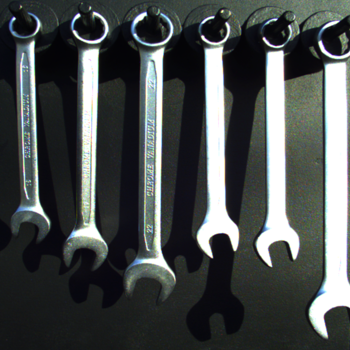bottom: (121, 255, 178, 305), (303, 282, 350, 342), (250, 221, 301, 271), (60, 226, 109, 273), (192, 214, 241, 261), (8, 203, 52, 245)
top: (129, 9, 176, 51), (314, 18, 350, 63), (69, 9, 110, 46), (256, 16, 294, 50), (7, 10, 44, 43), (196, 14, 232, 47)
